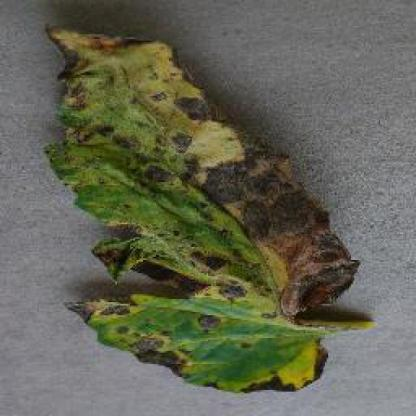Tomato_Blight: (42, 26, 361, 393)
